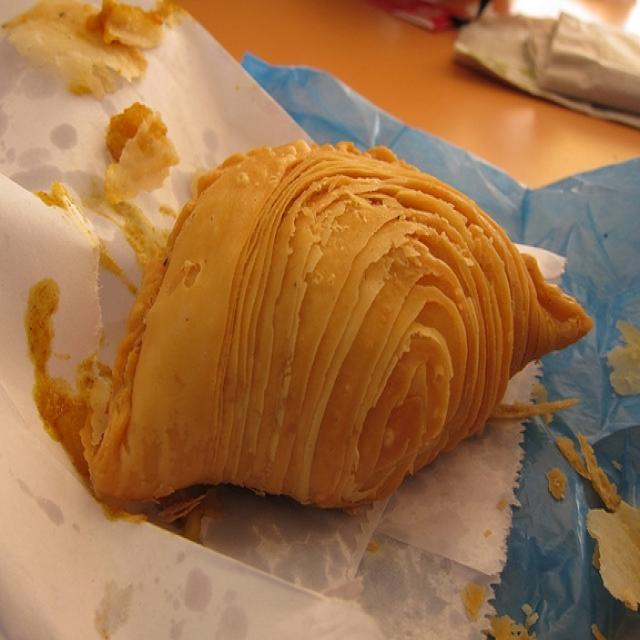炸货点心: (51, 103, 603, 558)
